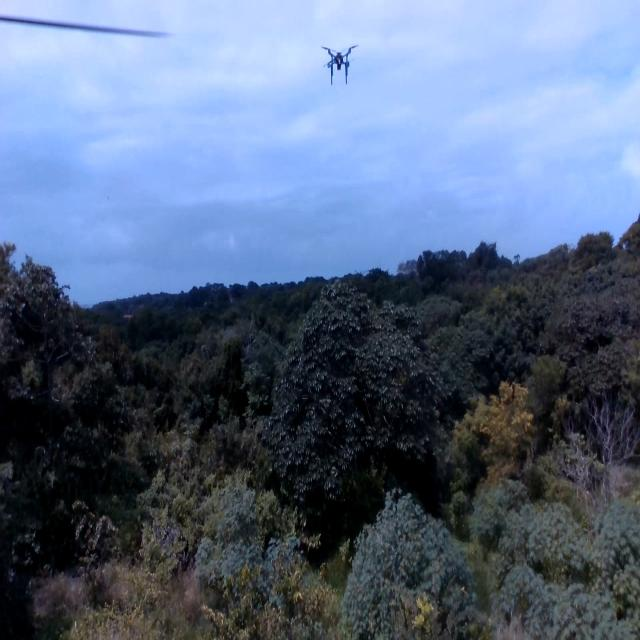-uav-: (318, 31, 360, 92)
